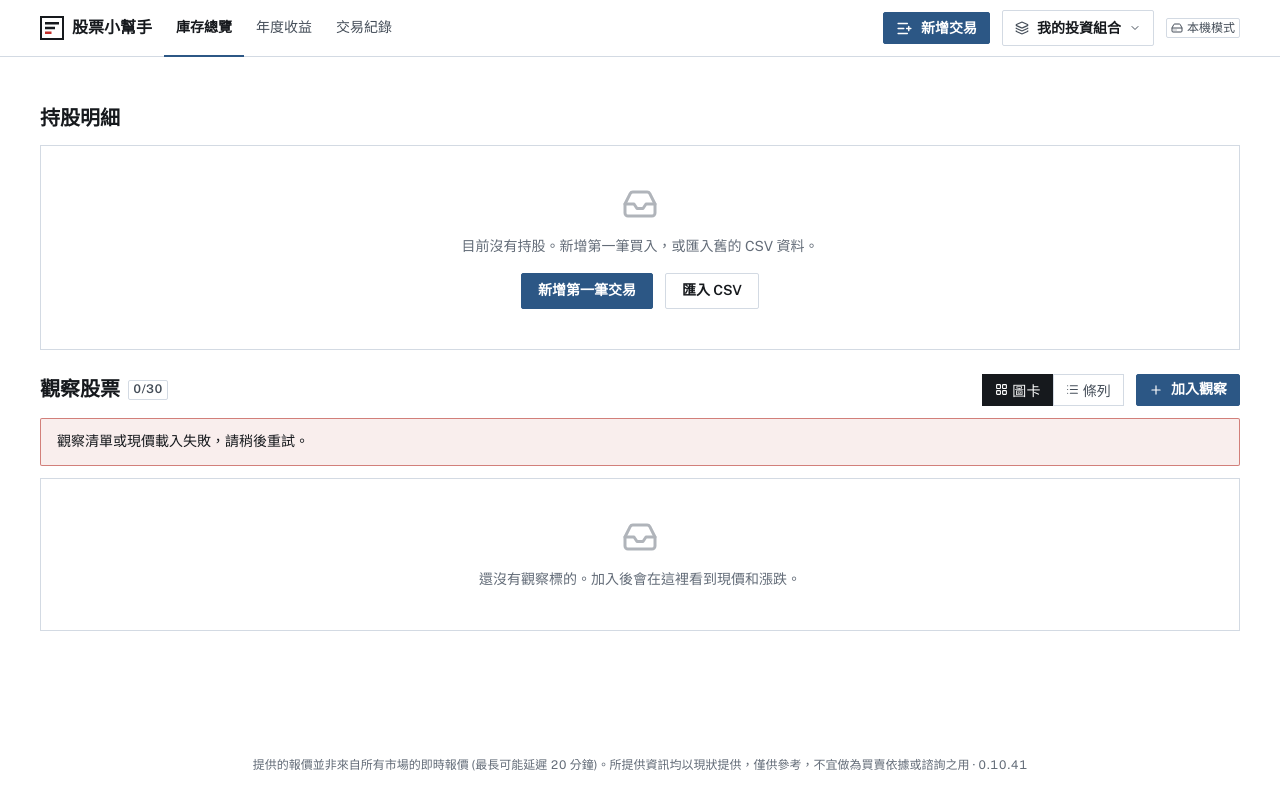
Test: TransactionForm 手續費欄位不連動全域預設 › F5: 未手動輸入時，切到零股仍帶入零股的預設最低手續費
Expected: the button "本機模式" is shown, [1166,18,1240,38]
Click the button "交易紀錄".
click(364, 28)  # box [324,0,404,57]
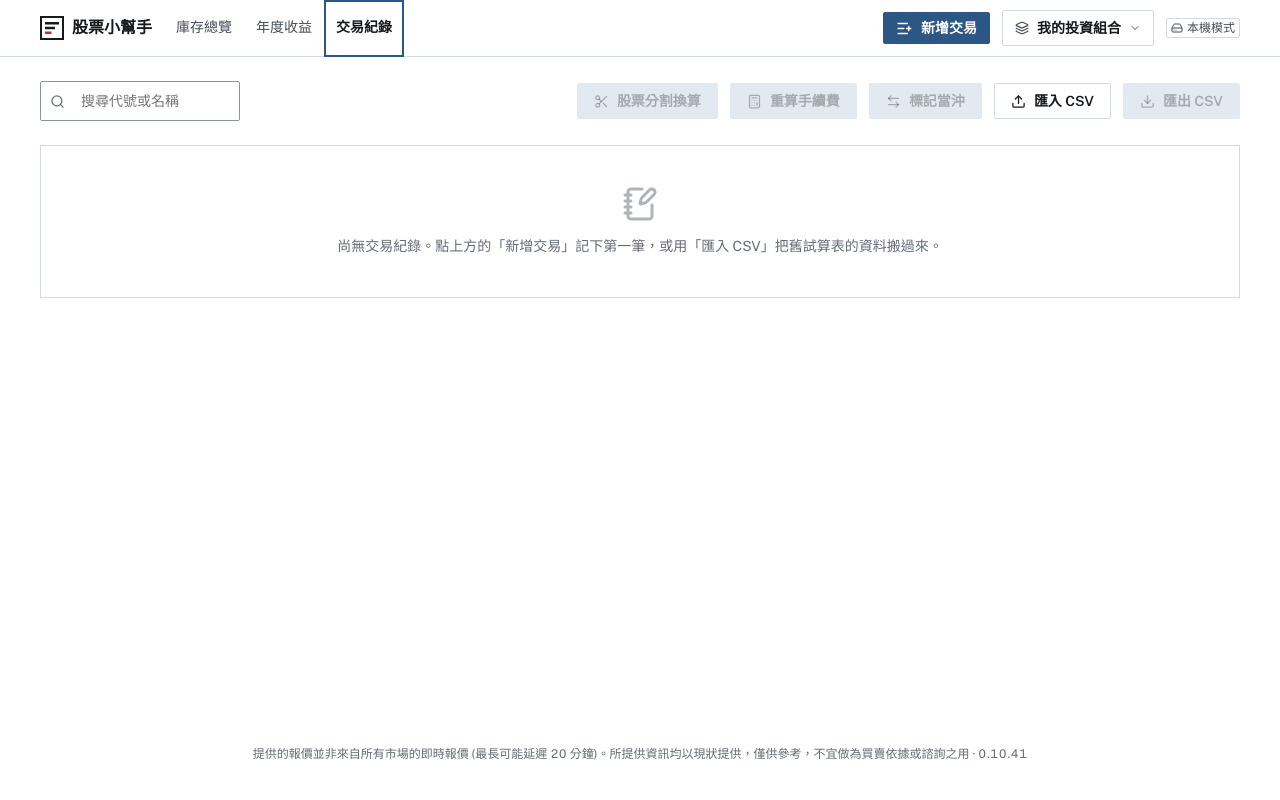
Click the button "新增交易".
click(936, 28)  # box [883,12,990,44]
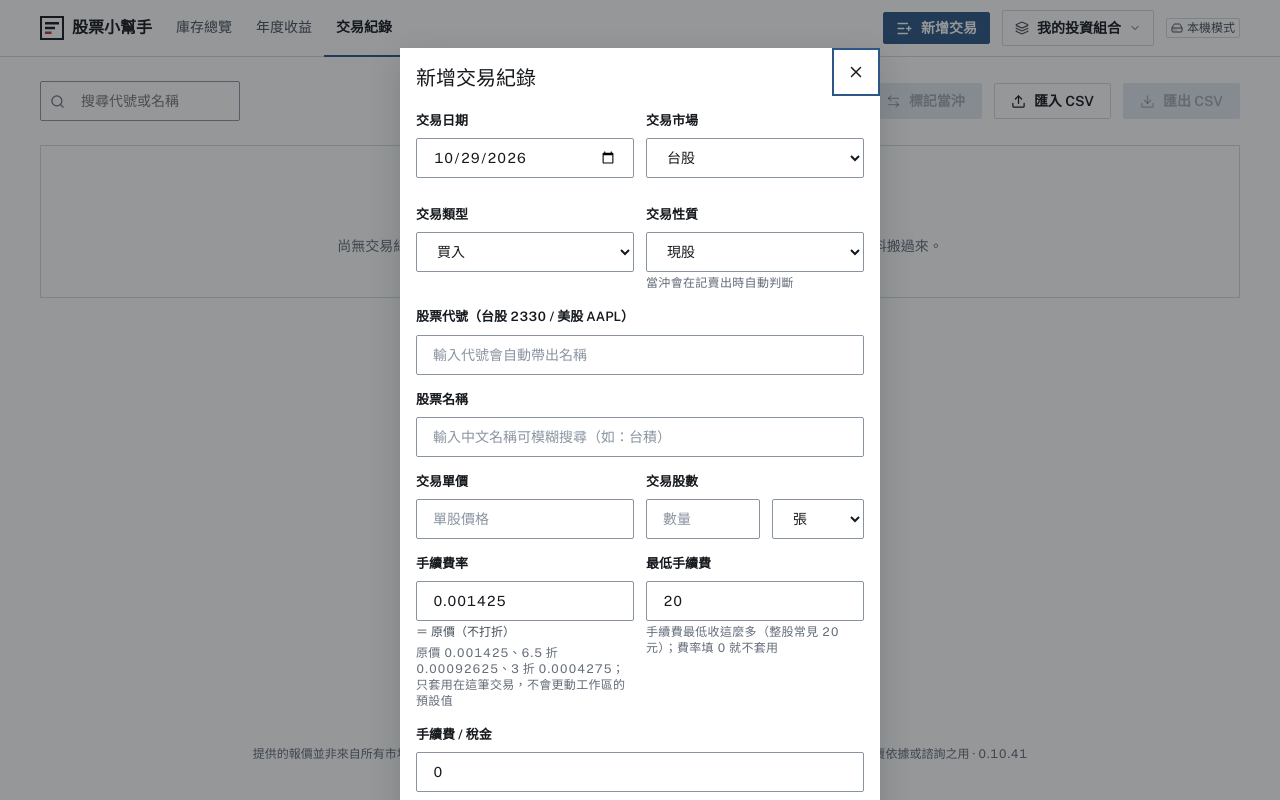
Result: the number field labelled "最低手續費" holds "20" at [646,581,864,621]
Select "零股" in the dropdown named "股數單位" at x=818, y=519, box [772,499,864,539]
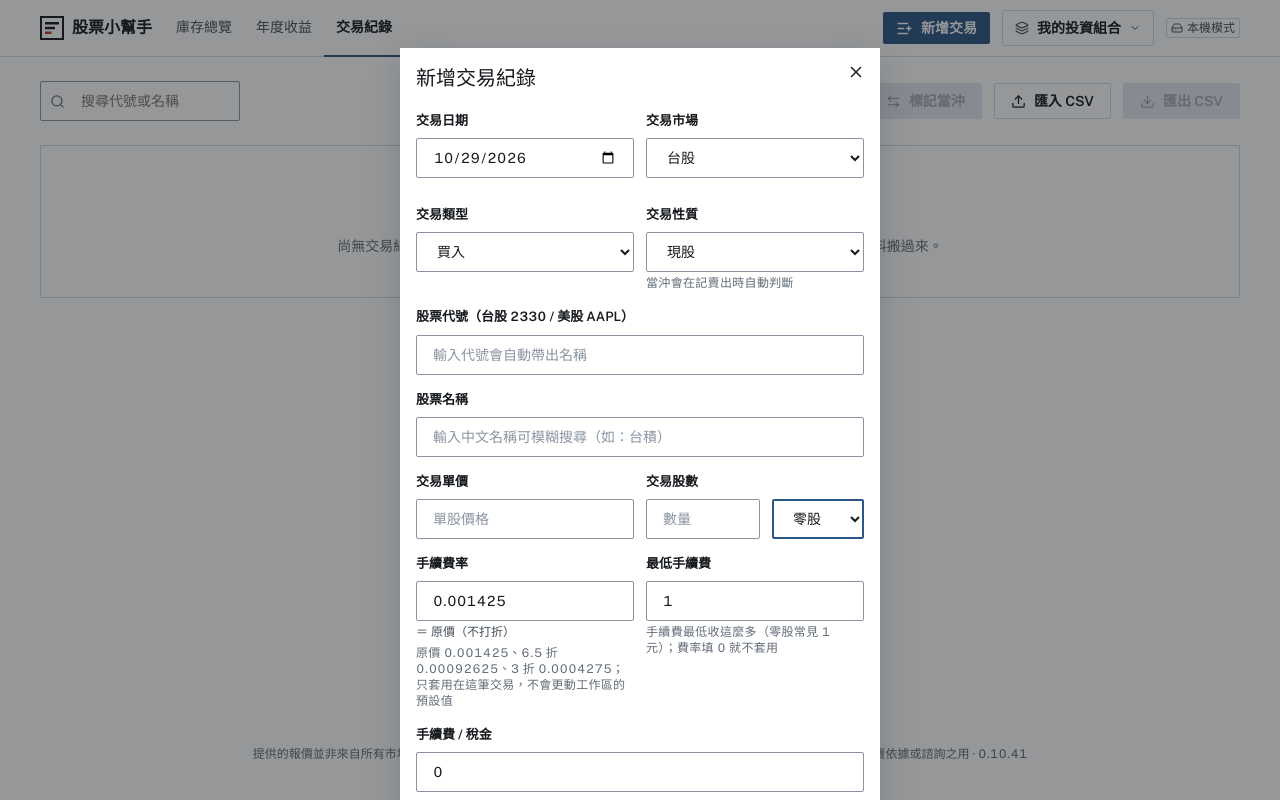
Result: the number field labelled "最低手續費" holds "1" at [646,581,864,621]
